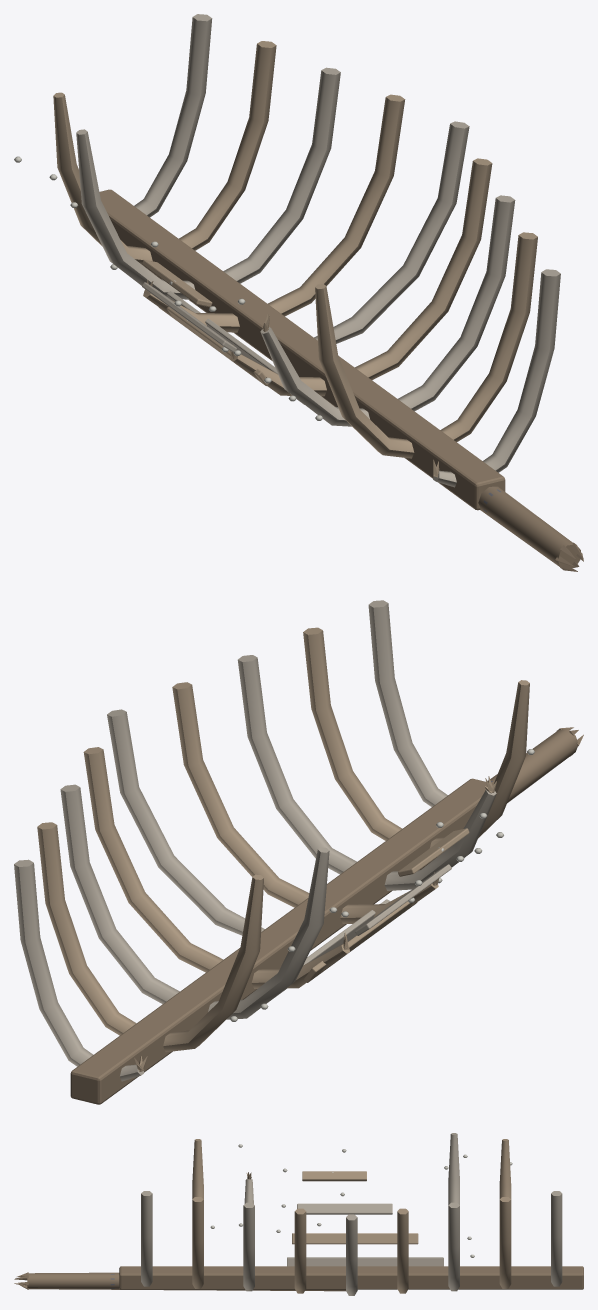
The model's file is wreck.glb.
3 views of the same model, one above another, from view 1: azimuth 30°, elevation 25°; view 2: azimuth 150°, elevation 25°; view 3: azimuth 270°, elevation 25° (orthographic). The views are drawn at different scales.
Visible parts, largest first — view 1: wreck, mast_log; view 2: wreck, mast_log; view 3: wreck, mast_log.
Boxes of the visible parts, box(x1,y1,x2,y2) form: wreck: box(14, 14, 560, 510); mast_log: box(478, 486, 583, 571); wreck: box(14, 600, 534, 1104); mast_log: box(488, 727, 583, 803); wreck: box(119, 1133, 583, 1295); mast_log: box(14, 1272, 345, 1291).
Size of the model in its own units: 6.42 by 3.92 by 16.69.
